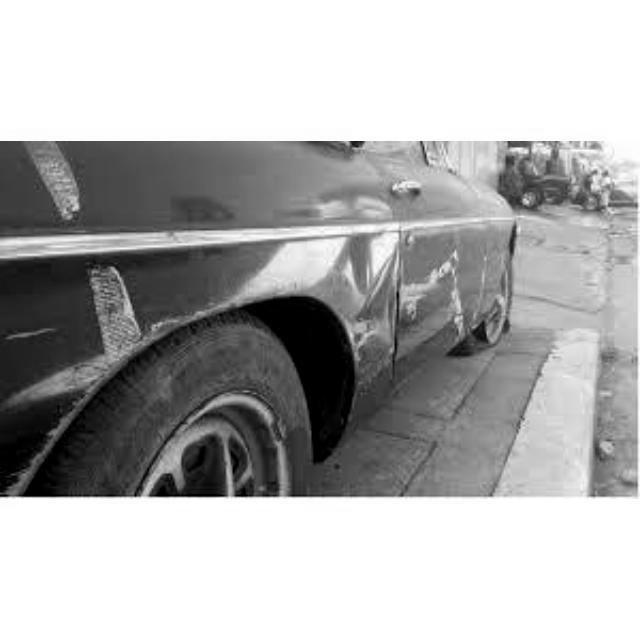quaterpanel-dent: (178, 163, 399, 382)
